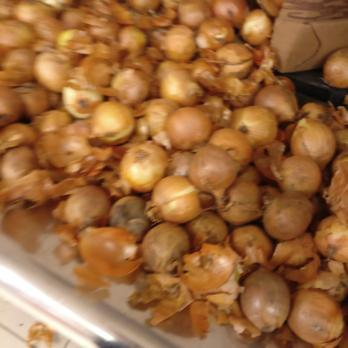Onion: (2, 0, 262, 227), (266, 99, 348, 348), (59, 229, 291, 289)
